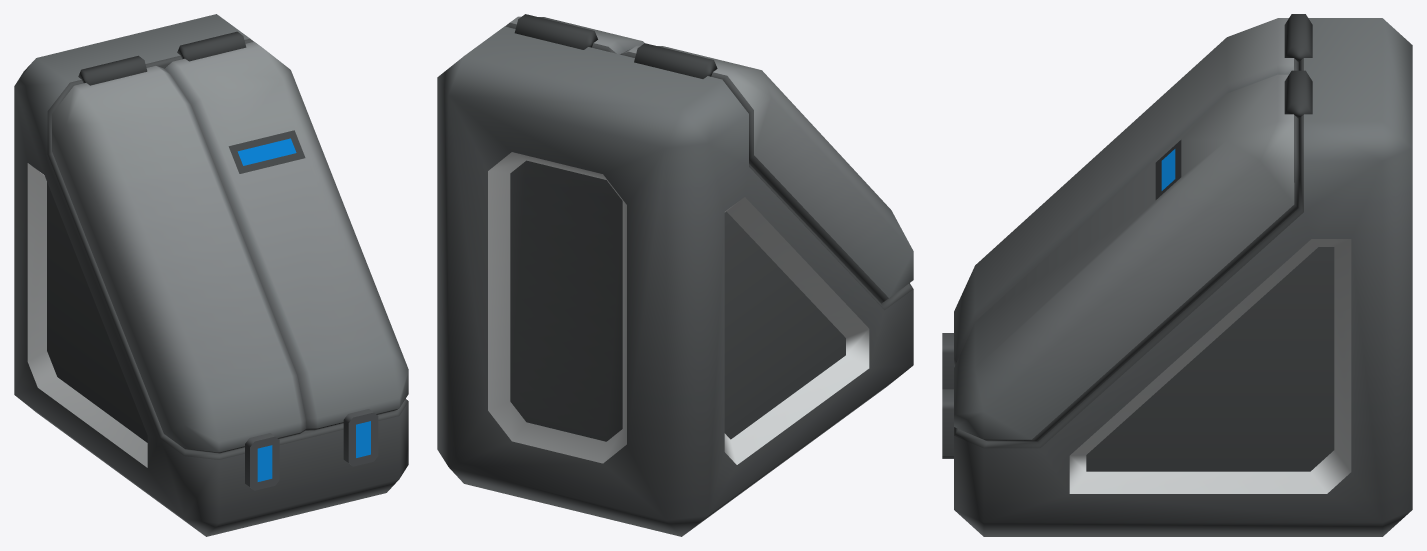
The model's file is Crate_006.glb.
The picture shows the model from 3 angles, left to right: view 1: azimuth 30°, elevation 25°; view 2: azimuth 150°, elevation 25°; view 3: azimuth 270°, elevation 25°; orthographic projection. The views are drawn at different scales.
Parts seen in each view (by area): view 1: Crate_006; view 2: Crate_006; view 3: Crate_006.
Boxes of the visible parts, x1,y1,x2,y2 form: Crate_006: (14,14,408,536); Crate_006: (437,14,913,536); Crate_006: (942,14,1412,536).
Bounding box in the file's own units: 0.4497 × 0.6962 × 0.6954.
2 materials, 2 textured.
